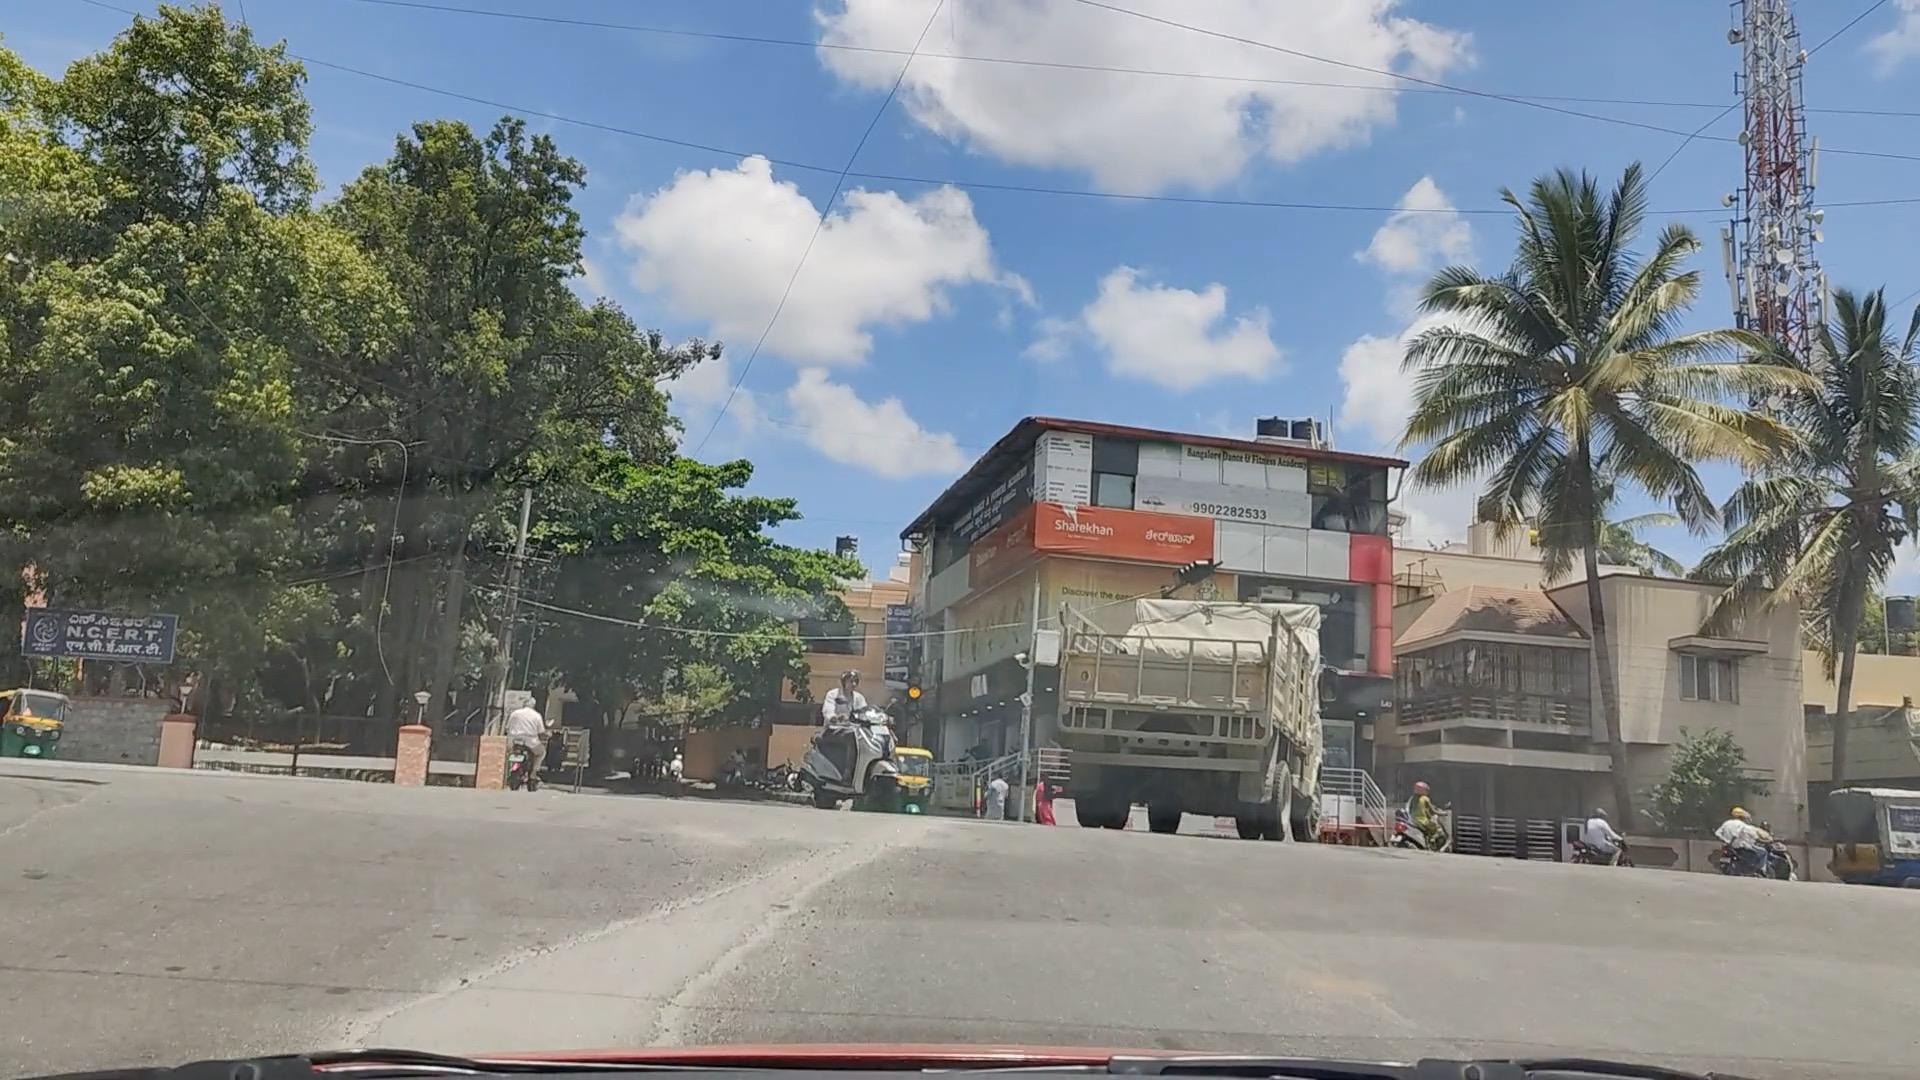HMV: (1050, 580, 1305, 836)
LMV: (779, 674, 901, 807)
RoadDamages: (356, 820, 885, 1054)
